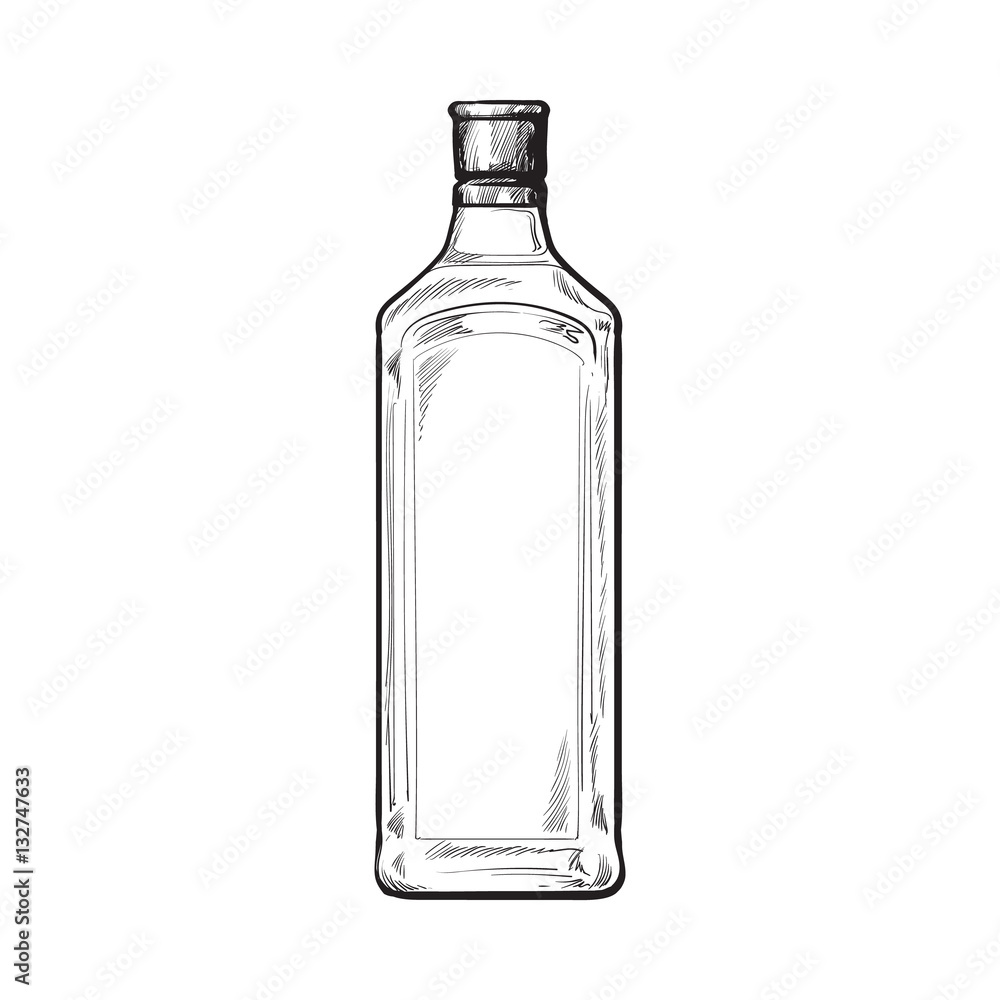glass_bottle: (329, 76, 663, 930)
